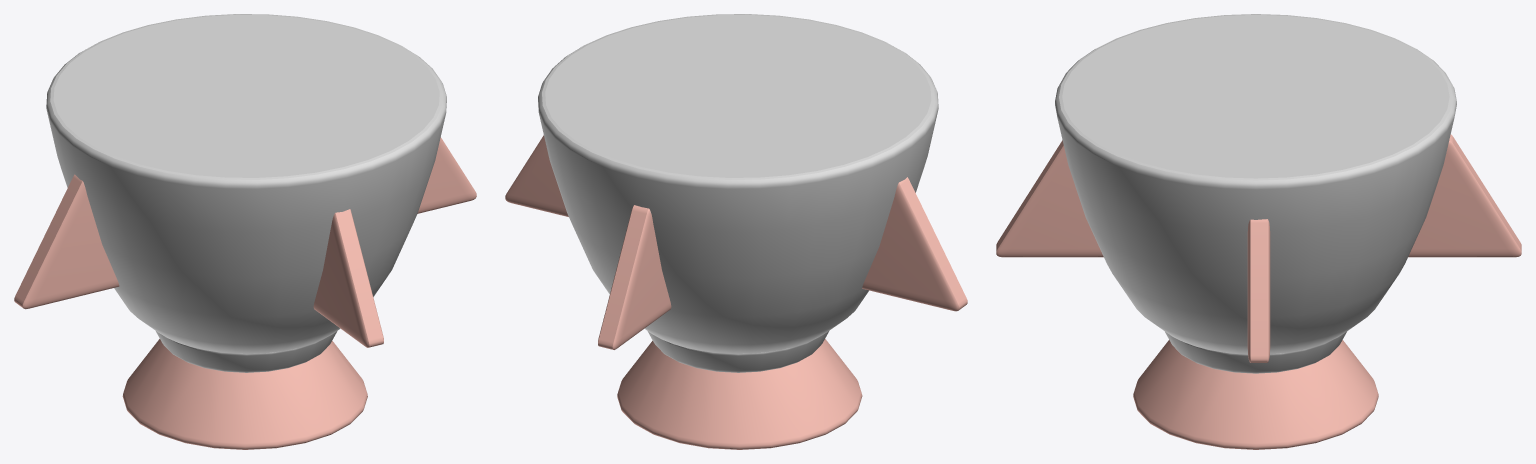
The model's file is RocketBot.glb.
3 views of the same model, side by side, from view 1: azimuth 30°, elevation 25°; view 2: azimuth 150°, elevation 25°; view 3: azimuth 270°, elevation 25° (orthographic).
Parts seen in each view (by area): view 1: Cylinder.012; view 2: Cylinder.012; view 3: Cylinder.012.
Part boxes in pixels (left/top/right/bottom): Cylinder.012: left=14, top=14, right=476, bottom=449; Cylinder.012: left=505, top=14, right=967, bottom=449; Cylinder.012: left=996, top=14, right=1521, bottom=449.
Bounding box in the file's own units: 0.4349 × 0.2774 × 0.4349.
